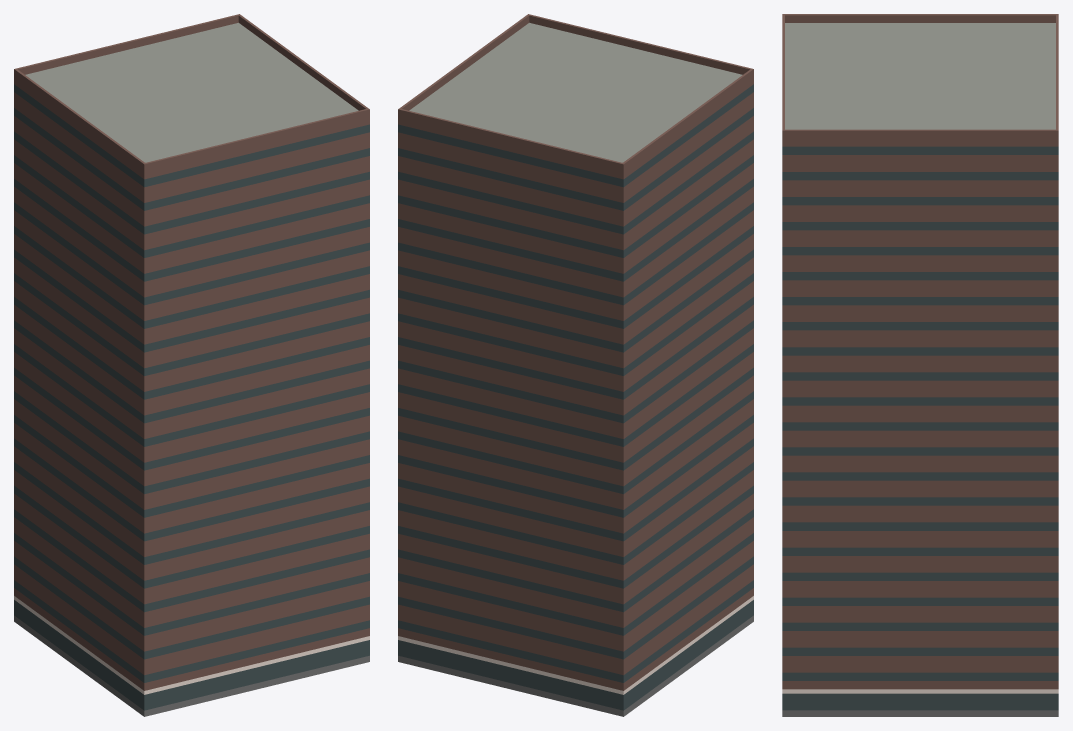
File: far.fbx
3 renders of one model, left to right at view 1: azimuth 30°, elevation 25°; view 2: azimuth 150°, elevation 25°; view 3: azimuth 270°, elevation 25°, orthographic. The views are drawn at different scales.
Visible parts, largest first — view 1: a2007/500/far; view 2: a2007/500/far; view 3: a2007/500/far.
Boxes of the visible parts, x1,y1,x2,y2 form: a2007/500/far: (14, 14, 369, 716); a2007/500/far: (398, 14, 753, 716); a2007/500/far: (782, 14, 1058, 716).
Bounding box in the file's own units: 30 × 70.22 × 30.
